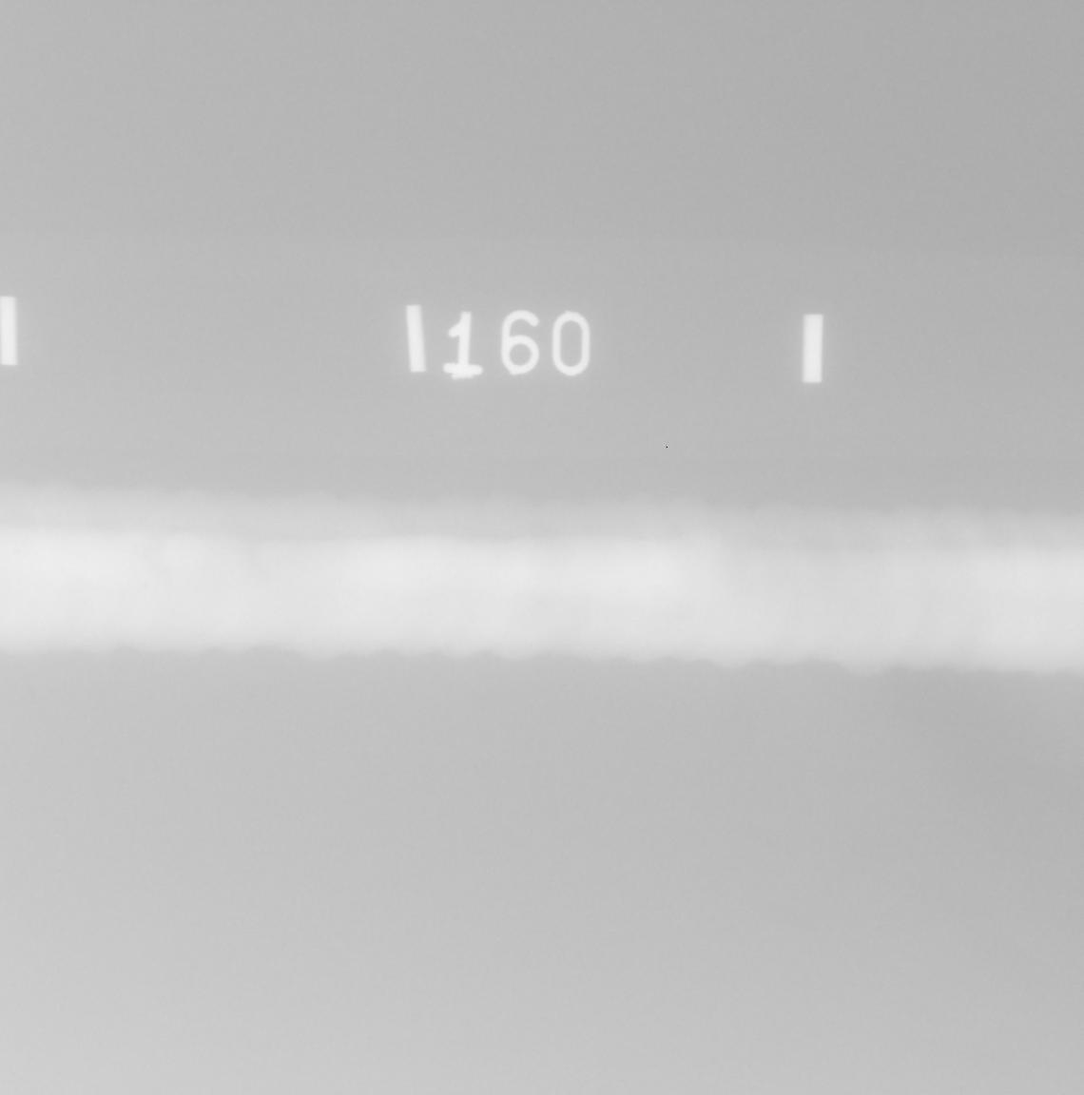Pore/Porosity: (140, 582, 148, 589), (13, 549, 21, 555), (121, 557, 126, 564), (132, 541, 137, 546)
